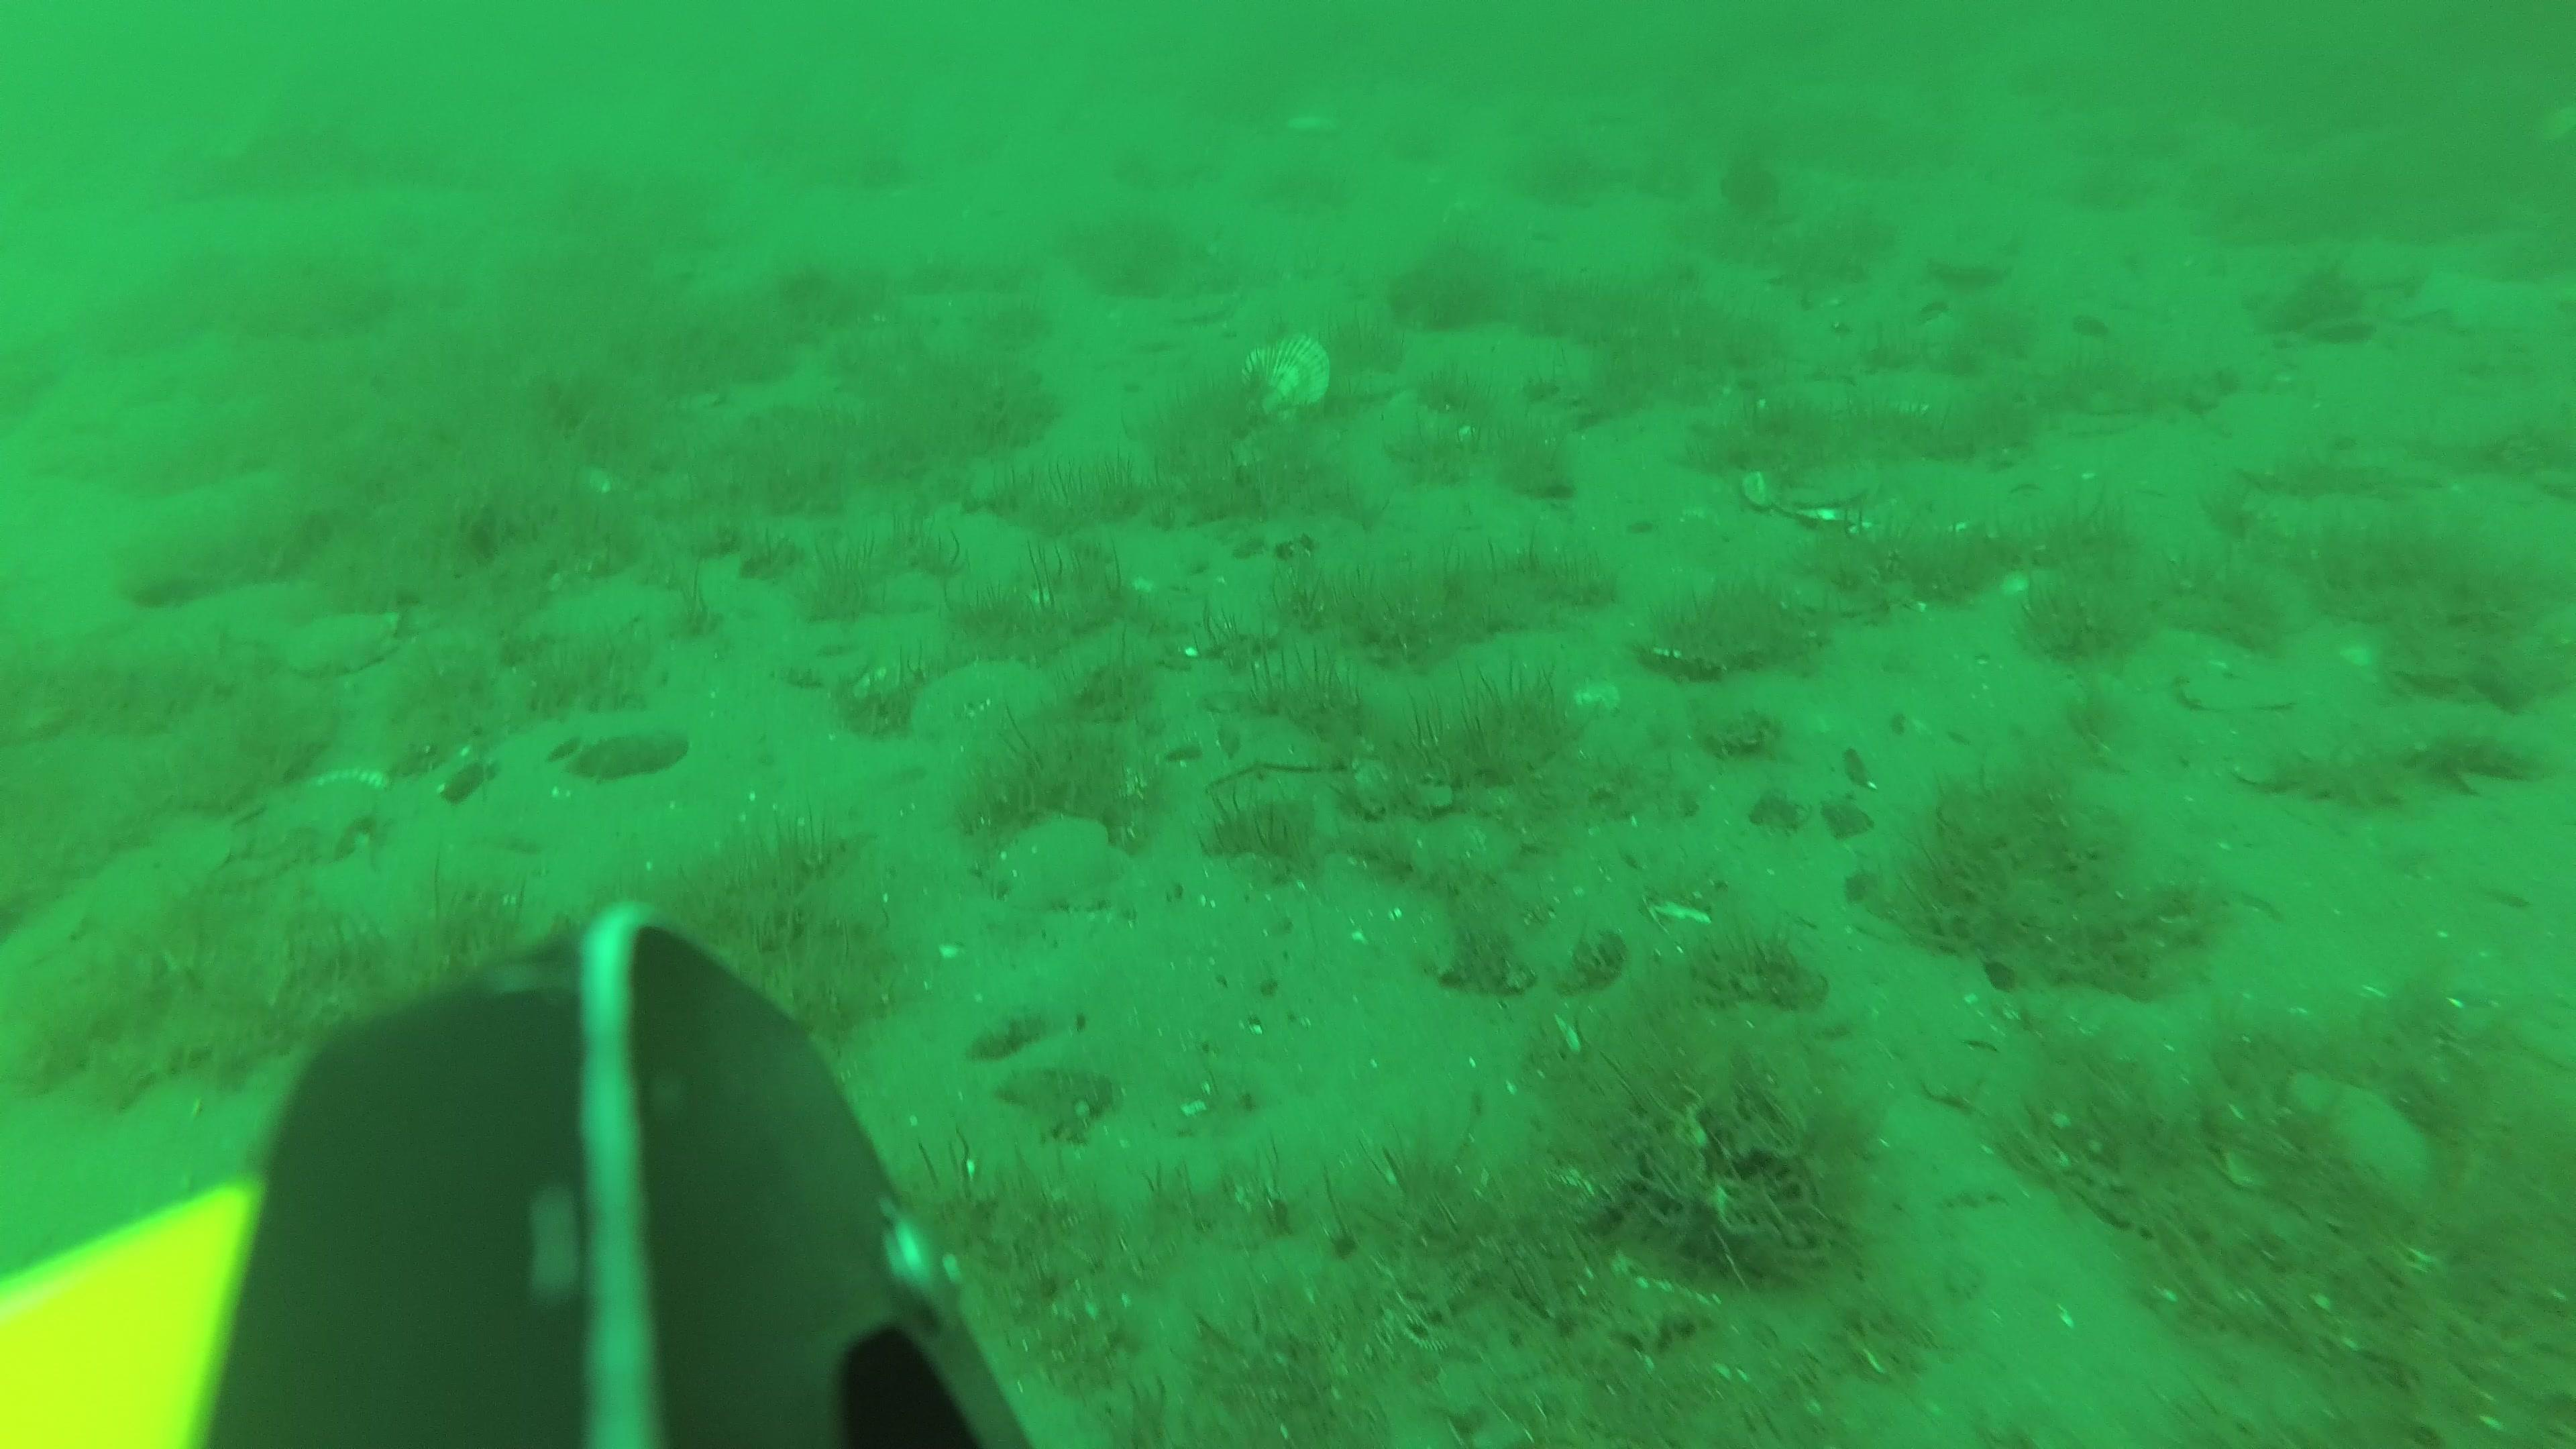scallop: (989, 817, 1134, 911), (1231, 331, 1336, 428), (1744, 453, 1888, 518), (283, 612, 403, 674)
